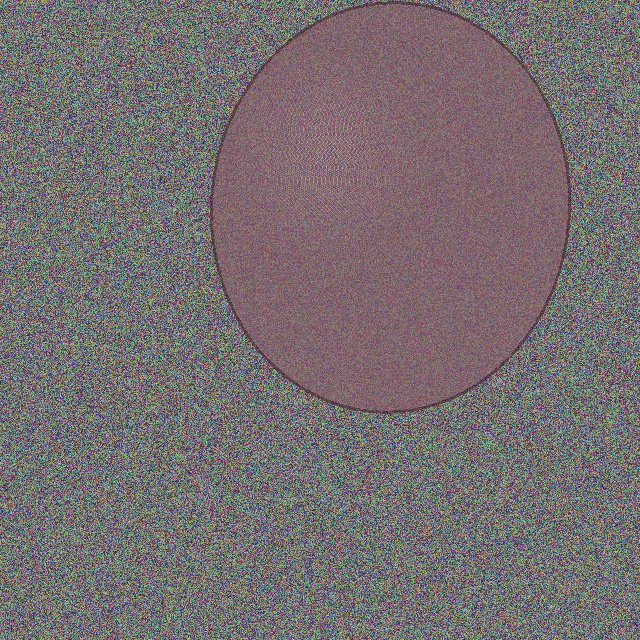lens: (212, 3, 568, 411)
